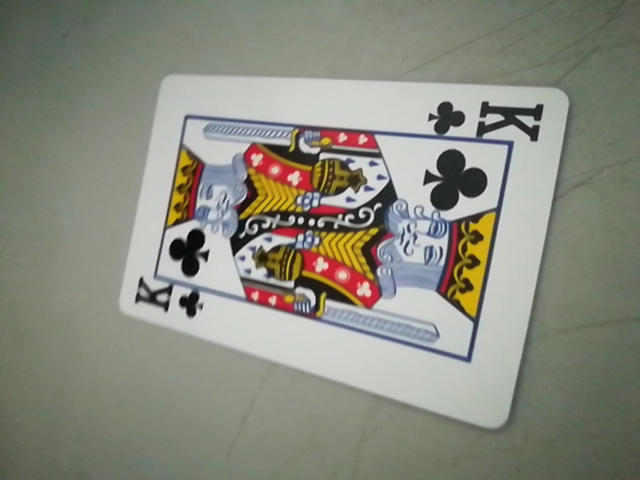mh k: (428, 94, 548, 145), (129, 276, 206, 324)
